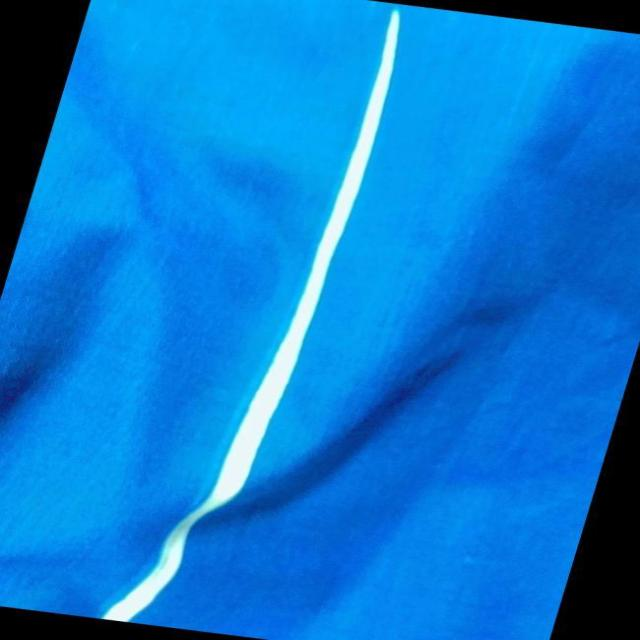selvet: (247, 2, 426, 449), (90, 430, 258, 631)
